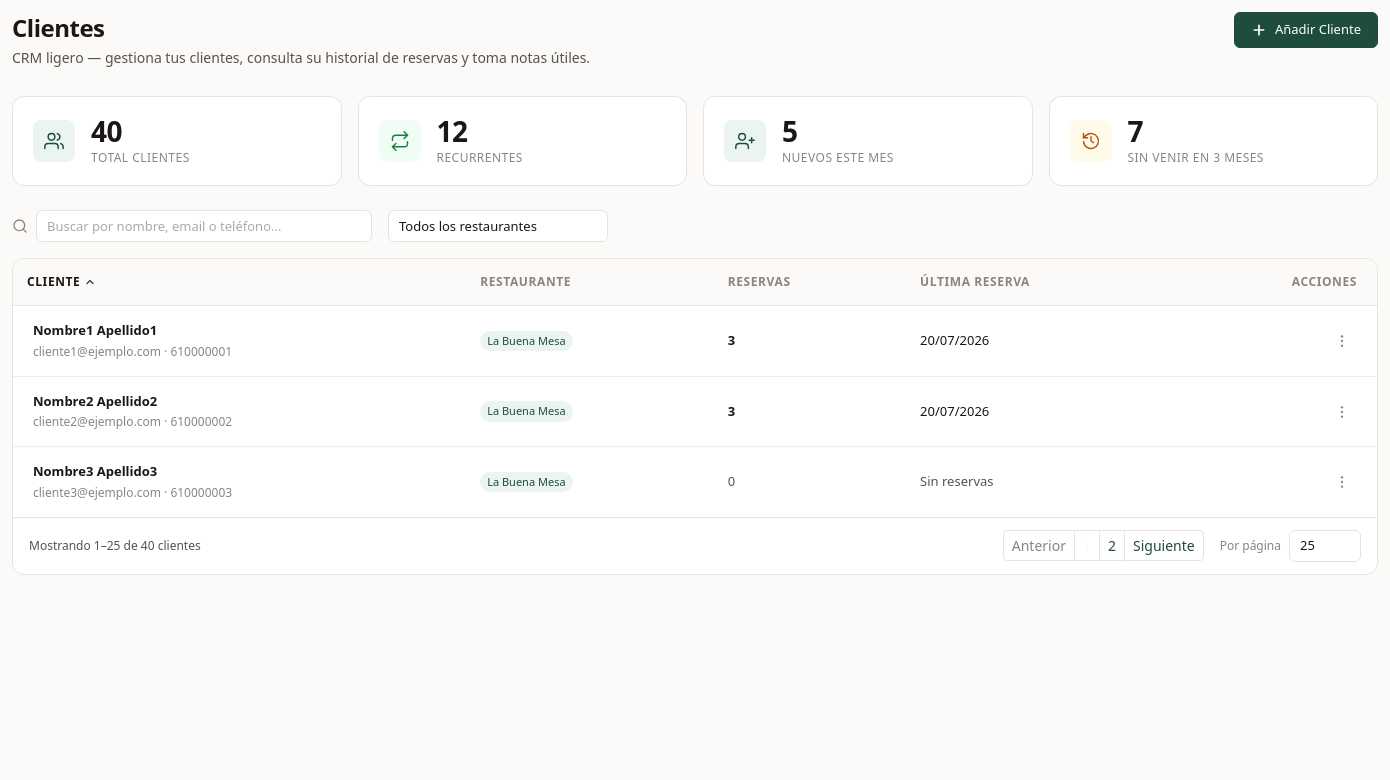
Clientes — paginación › navega a la página siguiente pidiéndosela al backend
Expected: the text "Nombre1 Apellido1" is shown, [33,321,157,339]
Click the button with aria-label "página siguiente" at (1164, 546), box [1124,530,1204,561]
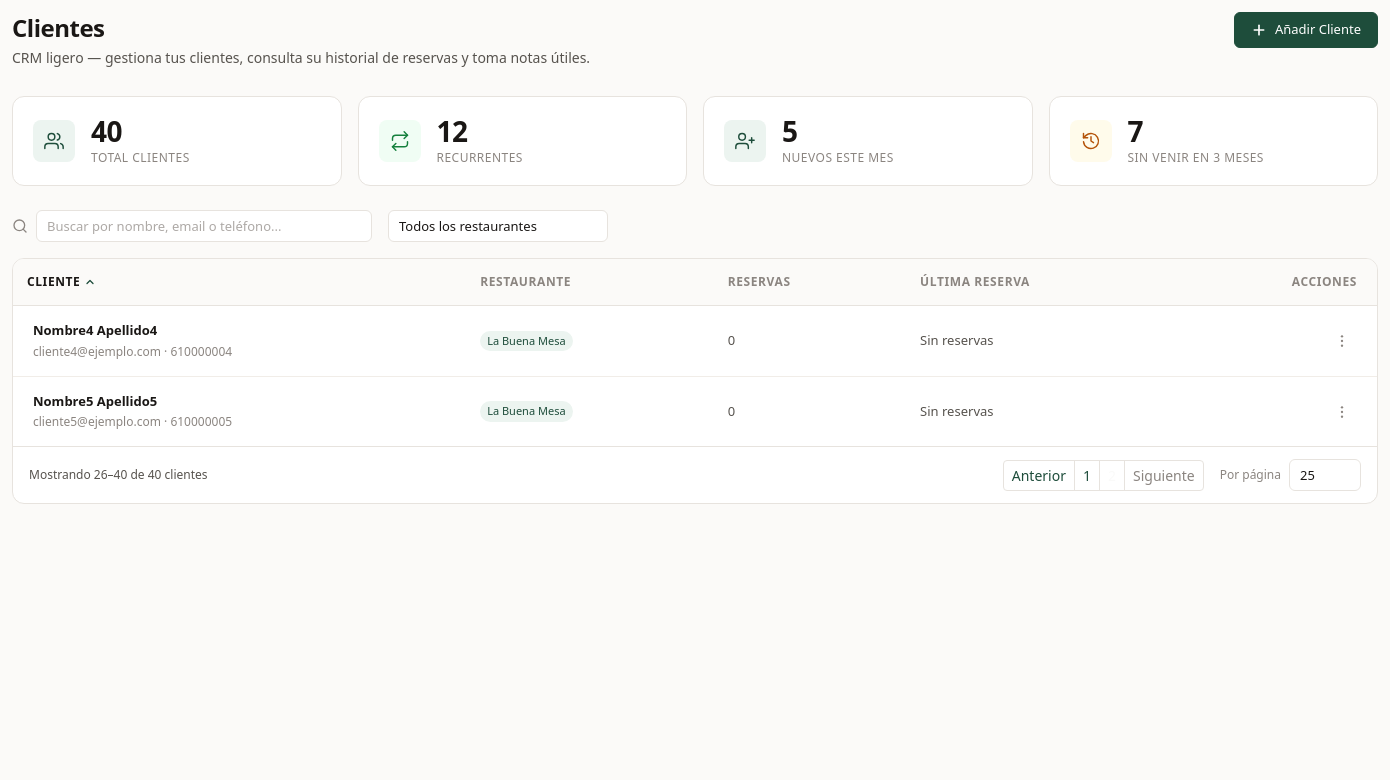
Expected: the text "Nombre4 Apellido4" is shown, [33,321,157,339]
